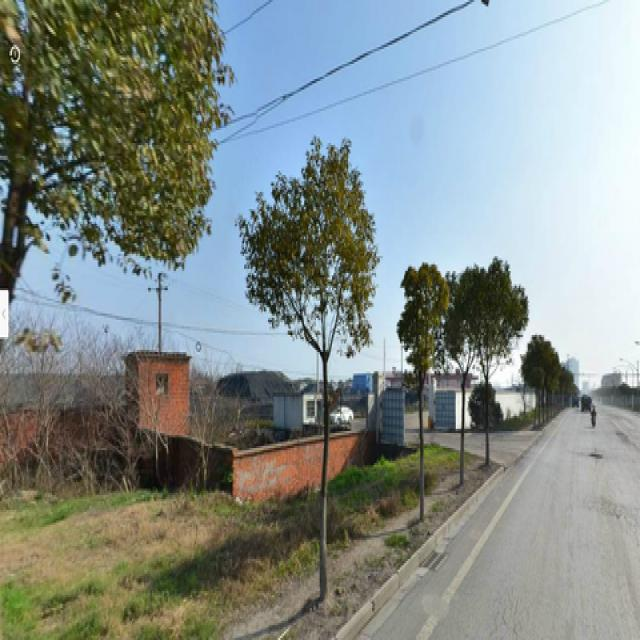cinn: (272, 177, 368, 576), (403, 266, 444, 506), (463, 268, 508, 458)
